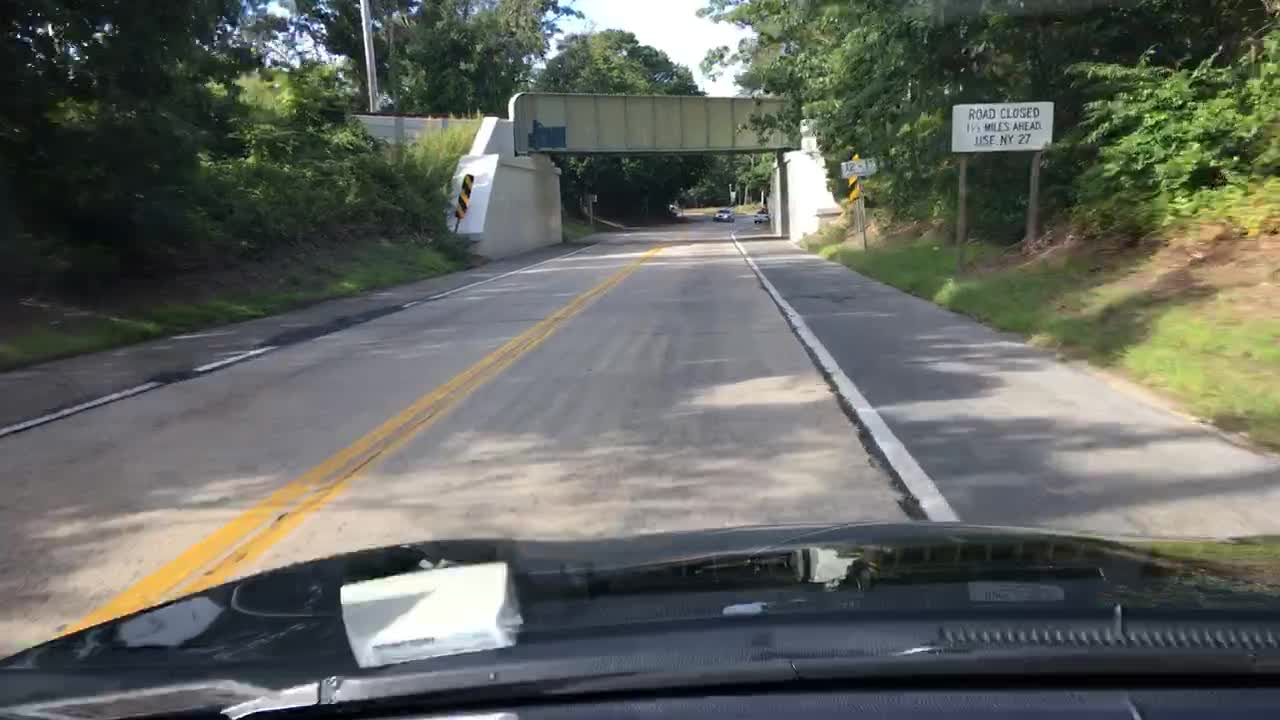car: (713, 207, 737, 224), (752, 206, 769, 223), (668, 204, 682, 218)
traffic sign: (951, 101, 1052, 153), (454, 173, 473, 218), (840, 160, 878, 175), (847, 171, 863, 200)
